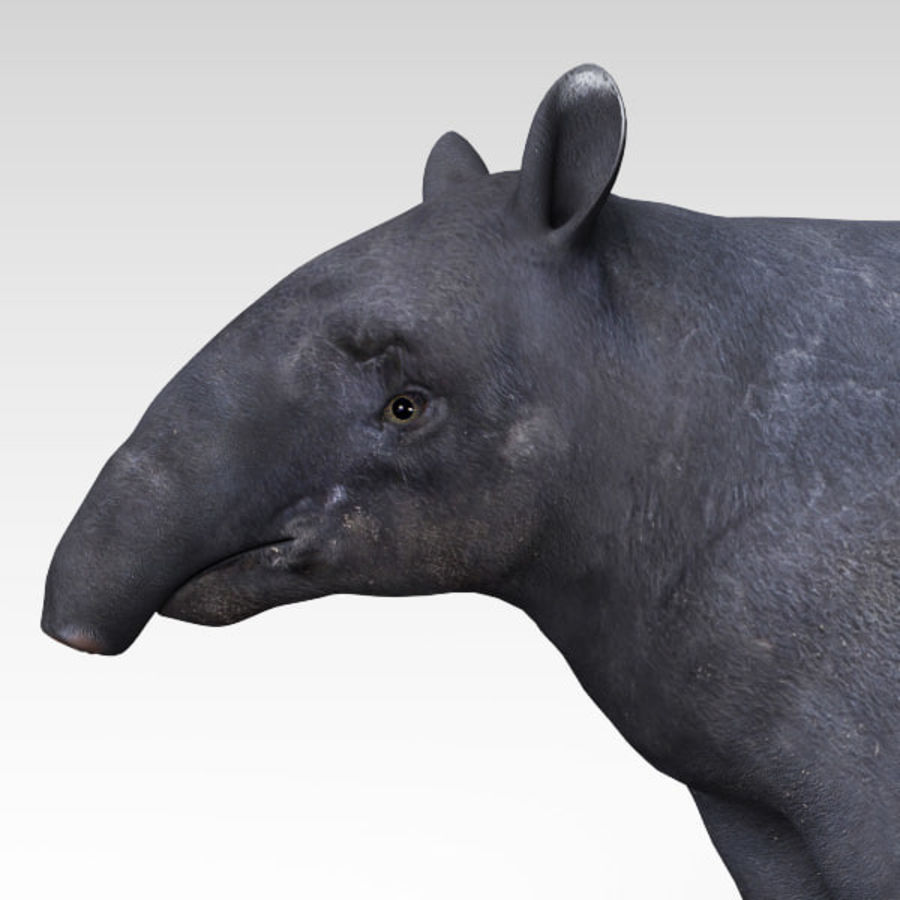Anta: (32, 54, 887, 871)
